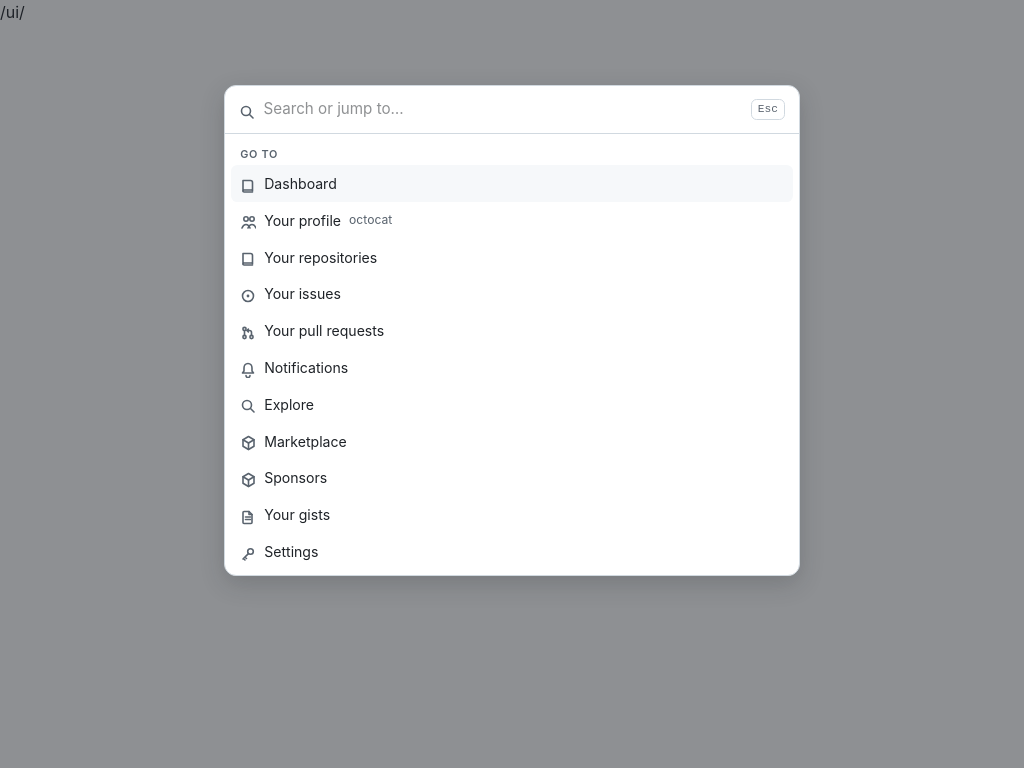
Test: CommandPalette › shows static jump-to targets and filters them by query
The image size is (1024, 768).
Expected: the dialog named "command palette" is shown, [224,85,800,576]
Expected: the option "Dashboard" is shown, [231,165,793,202]
Type "notif" into the dropdown at [503, 110], box [263,98,743,121]
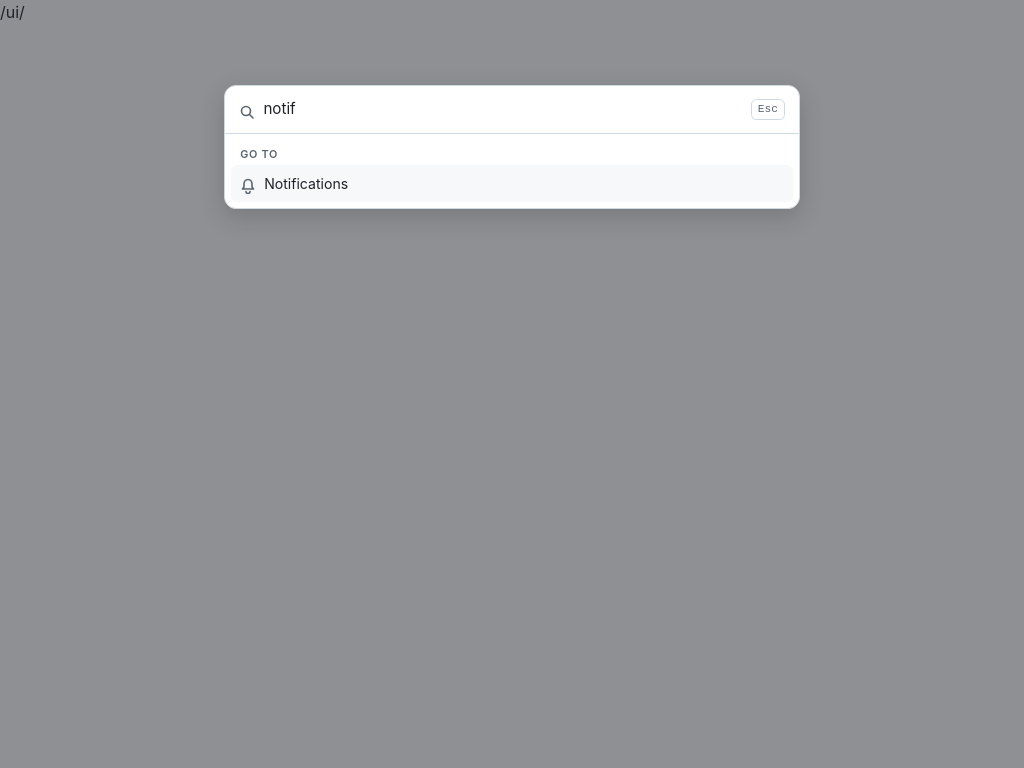
Expected: the option "Notifications" is shown, [231,165,793,202]
Result: the option "Dashboard" is gone
